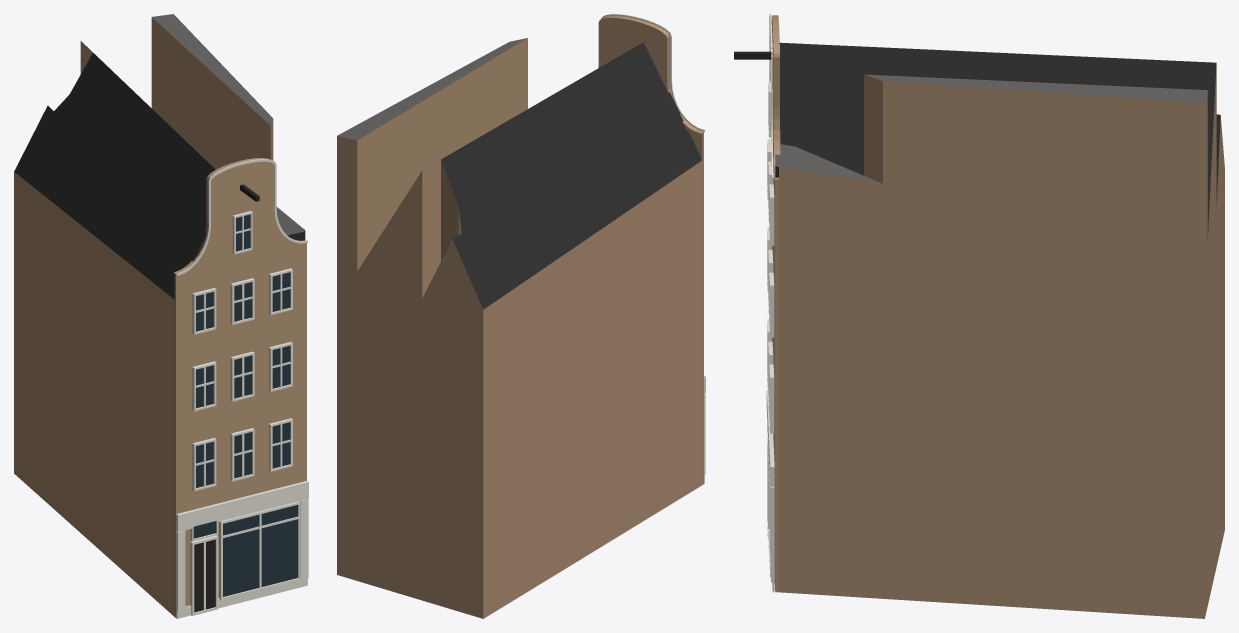
The picture shows the model from 3 angles, left to right: view 1: azimuth 30°, elevation 25°; view 2: azimuth 150°, elevation 25°; view 3: azimuth 270°, elevation 25°; orthographic projection. The views are drawn at different scales.
Parts seen in each view (by area): view 1: spec-0363100012182479; view 2: spec-0363100012182479; view 3: spec-0363100012182479.
Boxes of the visible parts, x1,y1,x2,y2 form: spec-0363100012182479: [14, 14, 308, 618]; spec-0363100012182479: [337, 14, 705, 618]; spec-0363100012182479: [734, 14, 1224, 618].
Size of the model in its own units: 6.9 by 16.31 by 13.73.
